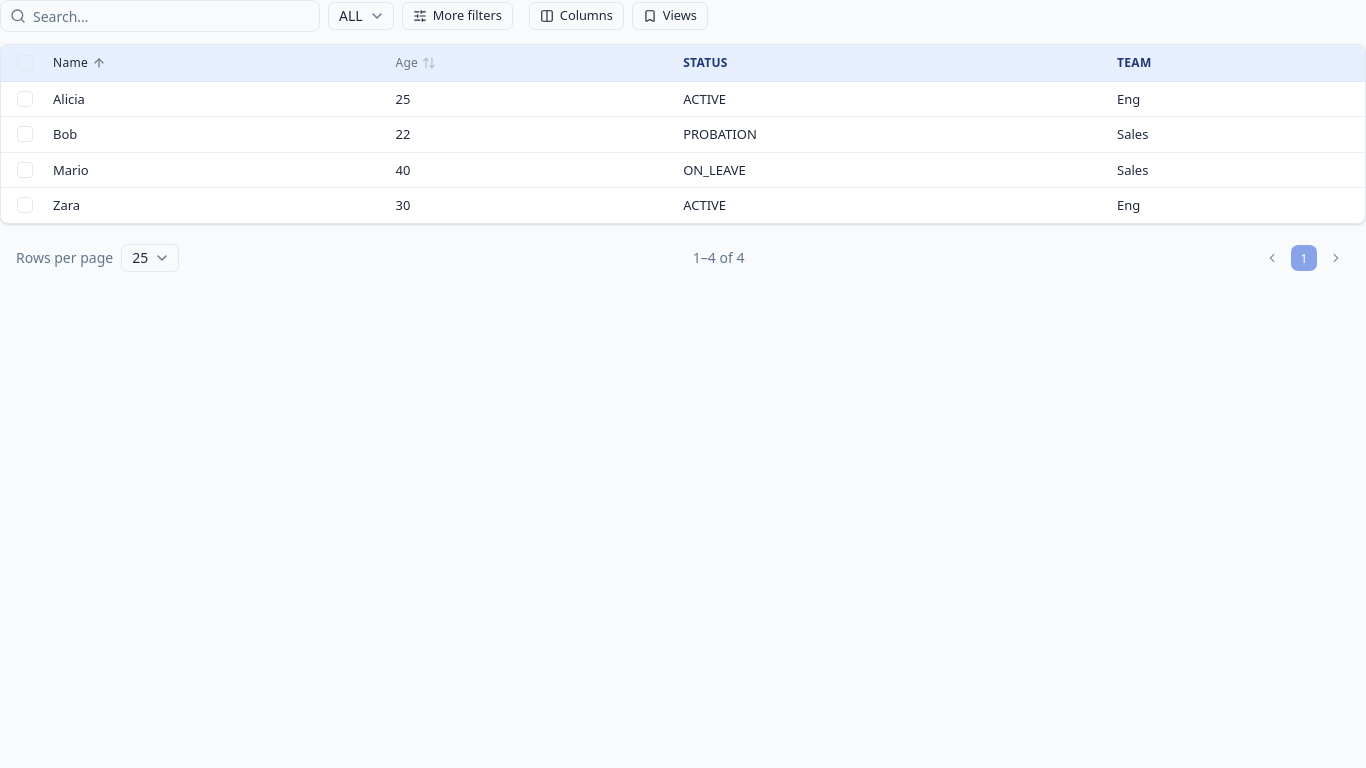
Test case: HrisDataTable › hides a column from the Columns menu
Expected: the column heading "Team" is shown, x1=1105 y1=45 x2=1365 y2=81
Click the button "Columns": (576, 16) x1=529 y1=2 x2=624 y2=30
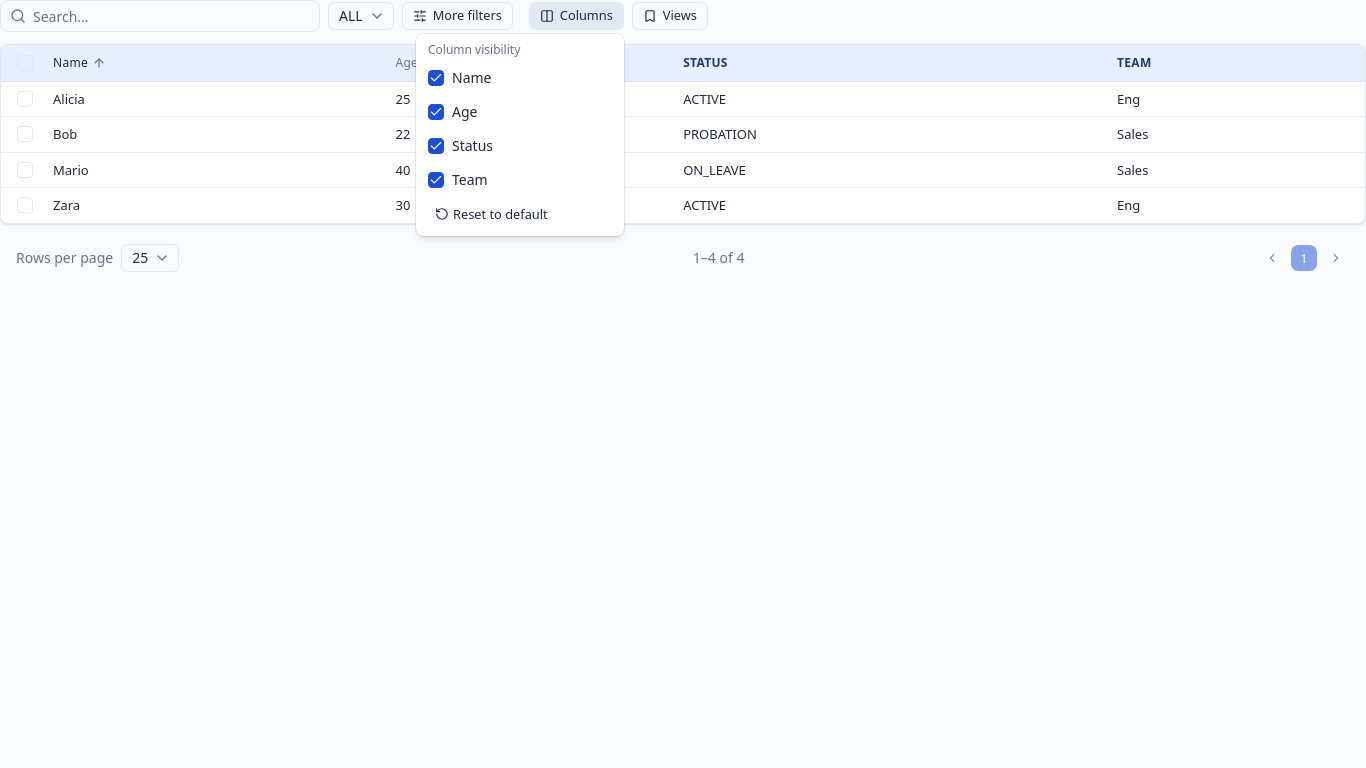
Click the checkbox named "Show team column": (436, 180) x1=428 y1=172 x2=444 y2=188
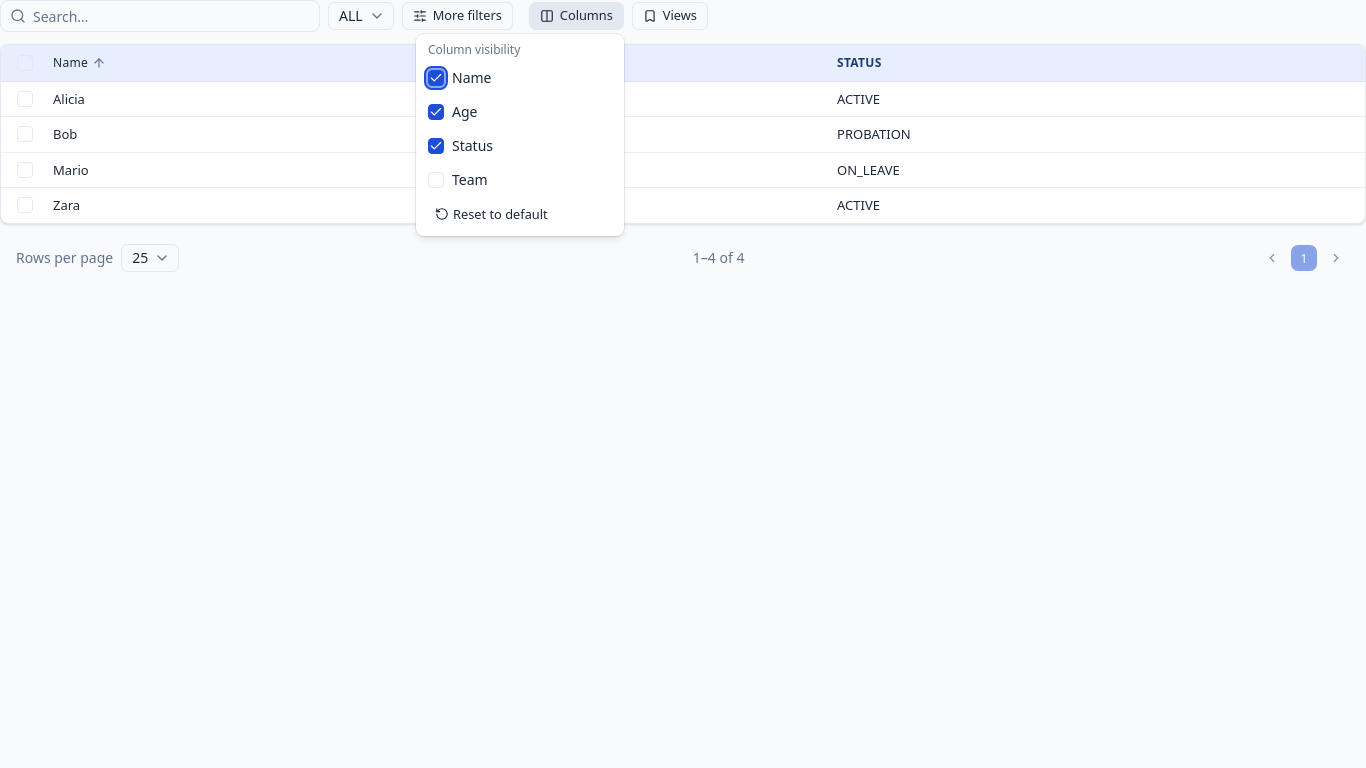
Now the text "Eng" is gone
